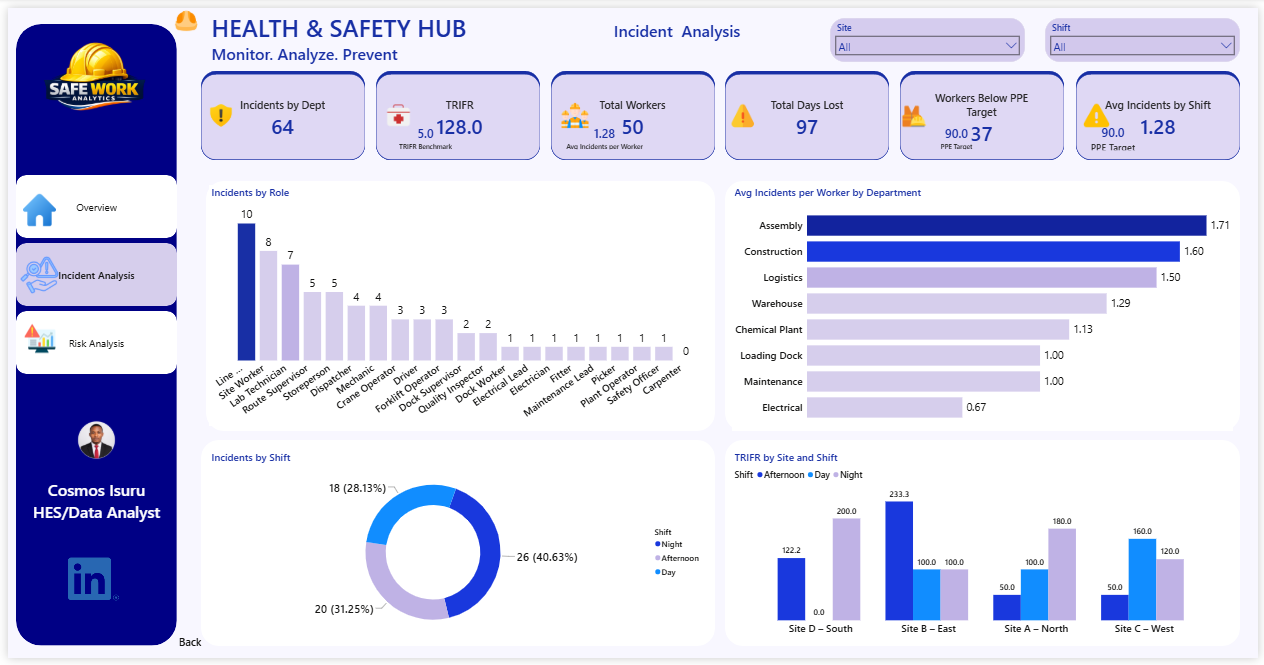

The page's visual inventory and layout, read from the dashboard file:
{"tool":"powerbi","page":{"name":"Incident Analysis","canvas":[2500,1300],"ordinal":1},"visuals":[{"type":"shape","box":[15,31.7,321.7,1243.3],"z":0},{"type":"textbox","box":[401.7,0,531.7,126.7],"z":1000},{"type":"image","box":[15,0,315,291.7],"z":2000},{"type":"group","id":"g1","title":"Group 1","box":[386.7,126.7,328.3,178.3],"z":3000},{"type":"shape","box":[386.7,126.7,328.3,178.3],"z":3000,"group":"g1"},{"type":"shape","box":[735,126.7,328.3,178.3],"z":3000,"group":"g4"},{"type":"shape","box":[1085,126.7,328.3,178.3],"z":3000,"group":"g5"},{"type":"group","id":"g2","title":"Group 2","box":[1433.3,126.7,328.3,178.3],"z":4000},{"type":"shape","box":[386.7,133.4,328.3,171.7],"z":4000,"group":"g1"},{"type":"shape","box":[735,133.4,328.3,171.7],"z":4000,"group":"g4"},{"type":"shape","box":[1085,133.4,328.3,171.7],"z":4000,"group":"g5"},{"type":"shape","box":[2136,126,328.3,178.3],"z":5000,"group":"g6"},{"type":"shape","box":[1433.3,126.7,328.3,178.3],"z":5000,"group":"g2"},{"type":"group","id":"g3","title":"Group 2","box":[1783.3,126.7,328.3,178.3],"z":5000},{"type":"shape","box":[1783.3,126.7,328.3,178.3],"z":5000,"group":"g3"},{"type":"group","id":"g4","title":"Group 1","box":[735,126.7,328.3,178.3],"z":6000},{"type":"shape","box":[2136,132.7,328.3,171.7],"z":6000,"group":"g6"},{"type":"shape","box":[1433.3,133.4,328.3,171.7],"z":6000,"group":"g2"},{"type":"shape","box":[1783.3,133.4,328.3,171.7],"z":6000,"group":"g3"},{"type":"group","id":"g5","title":"Group 1","box":[1085,126.7,328.3,178.3],"z":7000},{"type":"shape","box":[396,346,1018,500],"z":8000},{"type":"shape","box":[386,864,1028,412],"z":9000},{"type":"shape","box":[1434,864,1030,412],"z":10000},{"type":"shape","box":[1434,346,1030,500],"z":11000},{"type":"group","id":"g6","title":"Group 2","box":[2136,126,328,180],"z":12000},{"type":"slicer","fields":{"Values":["Worker Safety Dataset.Shift"]},"box":[2074,20,390,88],"z":13000},{"type":"slicer","fields":{"Values":["Worker Safety Dataset.Site"]},"box":[1644,20,390,88],"z":14000},{"type":"cardVisual","fields":{"Data":["OHS Metrics Summary.Avg Incidents per Worker"]},"box":[1086,216,214,84],"z":15000},{"type":"cardVisual","fields":{"Data":["OHS Metrics Summary.PPE Target"]},"box":[2136,220,148,82],"z":16000},{"type":"image","box":[312.9,0,88.6,51.4],"z":17000},{"type":"image","box":[395.7,188.6,60,54.3],"z":18000},{"type":"image","box":[741.4,188.6,78.6,54.3],"z":19000},{"type":"image","box":[2144,188,66,54],"z":20000},{"type":"image","box":[1784,188,56,56],"z":21000},{"type":"image","box":[1433.3,188.3,71.7,55],"z":22000},{"type":"image","box":[16,792,322,144],"z":23000},{"type":"image","box":[120,1086,102,112],"z":24000},{"type":"textbox","box":[16,936,322,108],"z":25000},{"type":"clusteredColumnChart","title":"Incidents by Role","fields":{"Category":["Worker Safety Dataset.Role"],"Y":["OHS Metrics Summary.Total Incidents"]},"box":[402,354,994,482],"z":26000},{"type":"cardVisual","fields":{"Data":["OHS Metrics Summary.Avg Incidents by Shift"]},"box":[2150,146,300,146],"z":27000},{"type":"cardVisual","fields":{"Data":["OHS Metrics Summary.Incidents by Dept"]},"box":[402,146,294,146],"z":28000},{"type":"cardVisual","fields":{"Data":["OHS Metrics Summary.Total Days Lost"]},"box":[1448,146,300,146],"z":29000},{"type":"cardVisual","fields":{"Data":["OHS Metrics Summary.TRIFR"]},"box":[756,146,294,146],"z":30000},{"type":"cardVisual","fields":{"Data":["OHS Metrics Summary.Workers Below PPE Target"]},"box":[1798,146,298,146],"z":31000},{"type":"cardVisual","fields":{"Data":["OHS Metrics Summary.Total Workers"]},"box":[1102,146,294,146],"z":32000},{"type":"cardVisual","fields":{"Data":["OHS Metrics Summary.TRIFR Benchmark"]},"box":[736,218,198,82],"z":33000},{"type":"cardVisual","fields":{"Data":["OHS Metrics Summary.PPE Target"]},"box":[1798,218,198,82],"z":34000},{"type":"image","box":[1102,188,64,54],"z":35000},{"type":"pageNavigator","box":[16,334,322,398],"z":36000,"group":"g7"},{"type":"actionButton","box":[326,1232,76,68],"z":36000},{"type":"donutChart","title":"Incidents by Shift","fields":{"Category":["Worker Safety Dataset.Shift"],"Y":["OHS Metrics Summary.Total Incidents"]},"box":[402,884,994,382],"z":37000},{"type":"barChart","title":"Avg Incidents per Worker by Department","fields":{"Category":["Worker Safety Dataset.Department"],"Y":["OHS Metrics Summary.Avg Incidents per Worker"]},"box":[1448,354,1002,492],"z":38000},{"type":"clusteredColumnChart","fields":{"Category":["Worker Safety Dataset.Site"],"Series":["Worker Safety Dataset.Shift"],"Y":["OHS Metrics Summary.TRIFR"]},"box":[1448,884,1002,382],"z":39000},{"type":"image","box":[30,346,66,116],"z":40000,"group":"g7"},{"type":"group","id":"g7","title":"Group 3","box":[16,334,322,398],"z":42000,"group":"g8"},{"type":"image","box":[24,480,78,108],"z":42500,"group":"g8"},{"type":"group","id":"g8","title":"Group 4","box":[16,334,322,398],"z":42501},{"type":"image","box":[32,600,64,122],"z":43001},{"type":"textbox","box":[1064,0,548,126],"z":43002}]}

Visuals, with their boxes in screenshot pixels (x1, y1, x2, y2), scaled from the page's 2500x1300 canvas onto the 1264x665 screenshot:
shape: 8/16/170/652
textbox: 203/0/472/65
image: 8/0/167/149
"Group 1" group: 196/65/362/156
shape: 196/65/362/156
shape: 372/65/538/156
shape: 549/65/715/156
"Group 2" group: 725/65/891/156
shape: 196/68/362/156
shape: 372/68/538/156
shape: 549/68/715/156
shape: 1080/64/1246/156
shape: 725/65/891/156
"Group 2" group: 902/65/1068/156
shape: 902/65/1068/156
"Group 1" group: 372/65/538/156
shape: 1080/68/1246/156
shape: 725/68/891/156
shape: 902/68/1068/156
"Group 1" group: 549/65/715/156
shape: 200/177/715/433
shape: 195/442/715/653
shape: 725/442/1246/653
shape: 725/177/1246/433
"Group 2" group: 1080/64/1246/157
slicer - Worker Safety Dataset.Shift: 1049/10/1246/55
slicer - Worker Safety Dataset.Site: 831/10/1028/55
cardVisual - OHS Metrics Summary.Avg Incidents per Worker: 549/110/657/153
cardVisual - OHS Metrics Summary.PPE Target: 1080/113/1155/154
image: 158/0/203/26
image: 200/96/230/124
image: 375/96/415/124
image: 1084/96/1117/124
image: 902/96/930/125
image: 725/96/761/124
image: 8/405/171/479
image: 61/556/112/613
textbox: 8/479/171/534
"Incidents by Role" clusteredColumnChart: 203/181/706/428
cardVisual - OHS Metrics Summary.Avg Incidents by Shift: 1087/75/1239/149
cardVisual - OHS Metrics Summary.Incidents by Dept: 203/75/352/149
cardVisual - OHS Metrics Summary.Total Days Lost: 732/75/884/149
cardVisual - OHS Metrics Summary.TRIFR: 382/75/531/149
cardVisual - OHS Metrics Summary.Workers Below PPE Target: 909/75/1060/149
cardVisual - OHS Metrics Summary.Total Workers: 557/75/706/149
cardVisual - OHS Metrics Summary.TRIFR Benchmark: 372/112/472/153
cardVisual - OHS Metrics Summary.PPE Target: 909/112/1009/153
image: 557/96/590/124
pageNavigator: 8/171/171/374
actionButton: 165/630/203/664
"Incidents by Shift" donutChart: 203/452/706/648
"Avg Incidents per Worker by Department" barChart: 732/181/1239/433
clusteredColumnChart - Worker Safety Dataset.Site x Worker Safety Dataset.Shift: 732/452/1239/648
image: 15/177/49/236
"Group 3" group: 8/171/171/374
image: 12/246/52/301
"Group 4" group: 8/171/171/374
image: 16/307/49/369
textbox: 538/0/815/64
